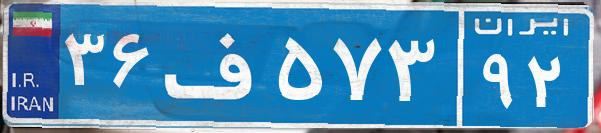2: (525, 38, 570, 115)
3: (385, 28, 445, 110), (57, 26, 110, 107)
5: (273, 28, 330, 110)
6: (110, 28, 158, 105)
7: (330, 28, 385, 110)
9: (475, 38, 525, 113)
ف: (158, 15, 273, 115)
